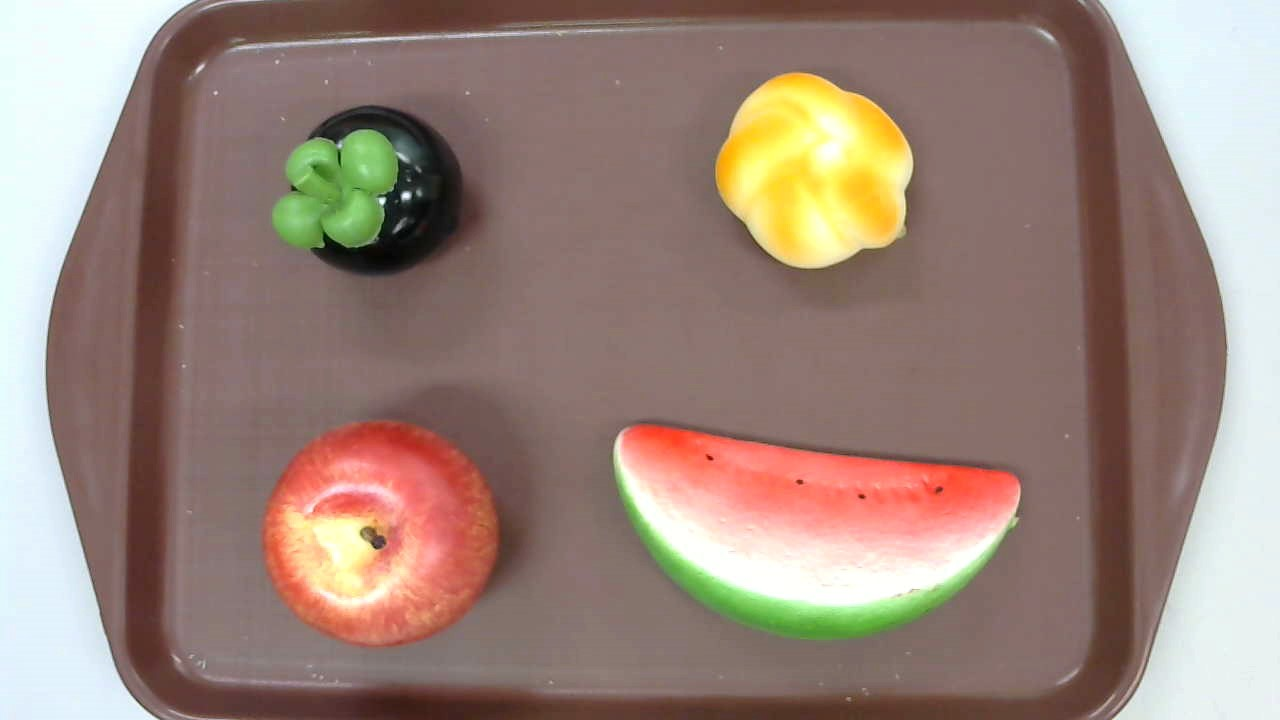mangosteen: (272, 104, 464, 279)
red apple: (262, 419, 500, 650)
twist bread: (715, 72, 916, 269)
water melon: (611, 422, 1022, 641)
